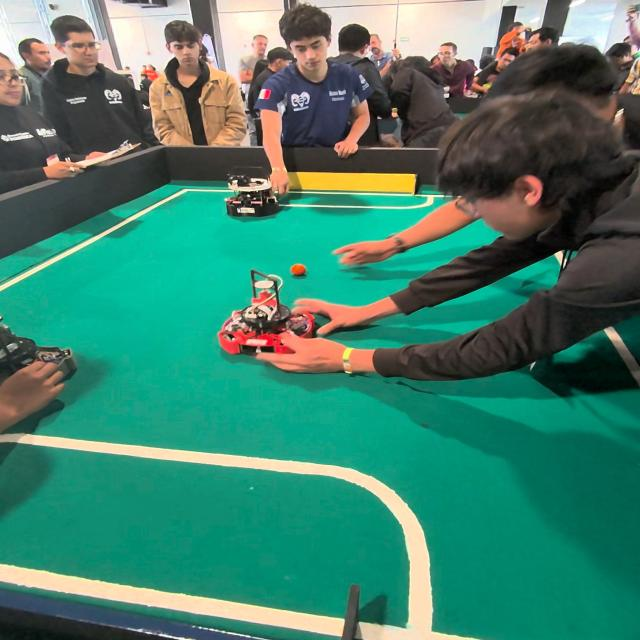Robot: (203, 268, 320, 369), (0, 297, 87, 397), (221, 167, 284, 223)
pelota: (280, 254, 318, 288)
